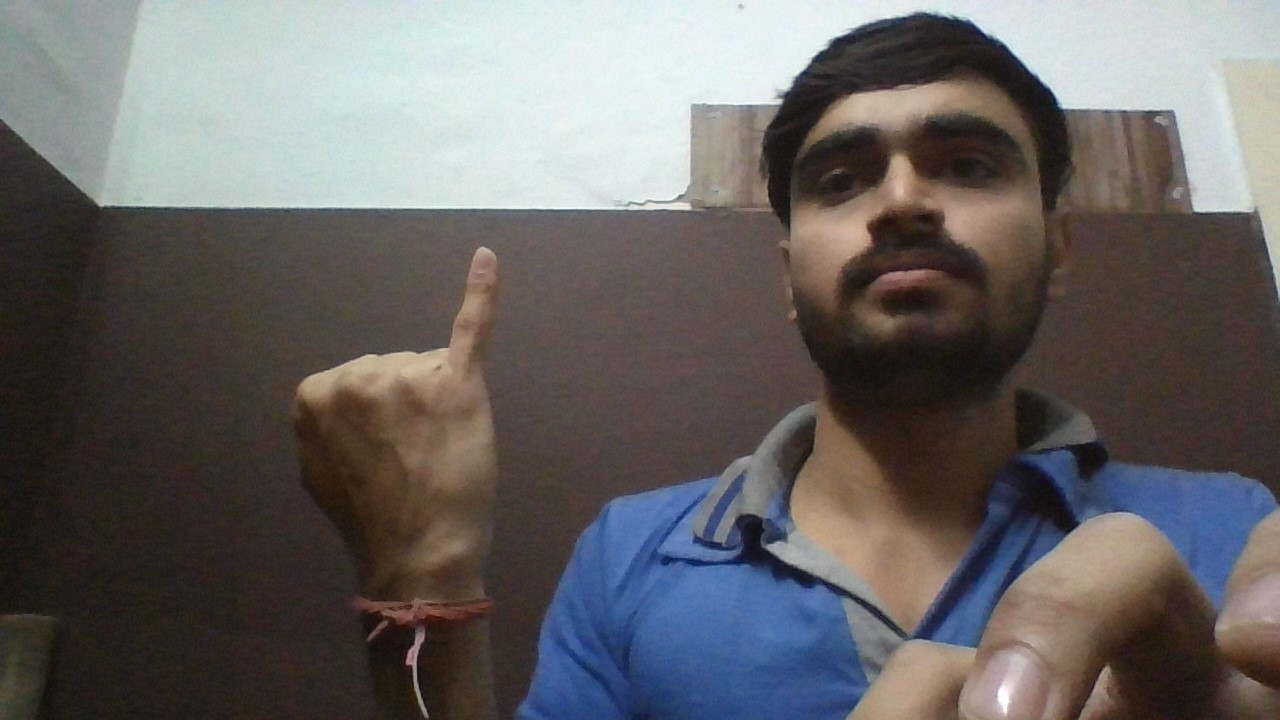J: (261, 227, 550, 568)
